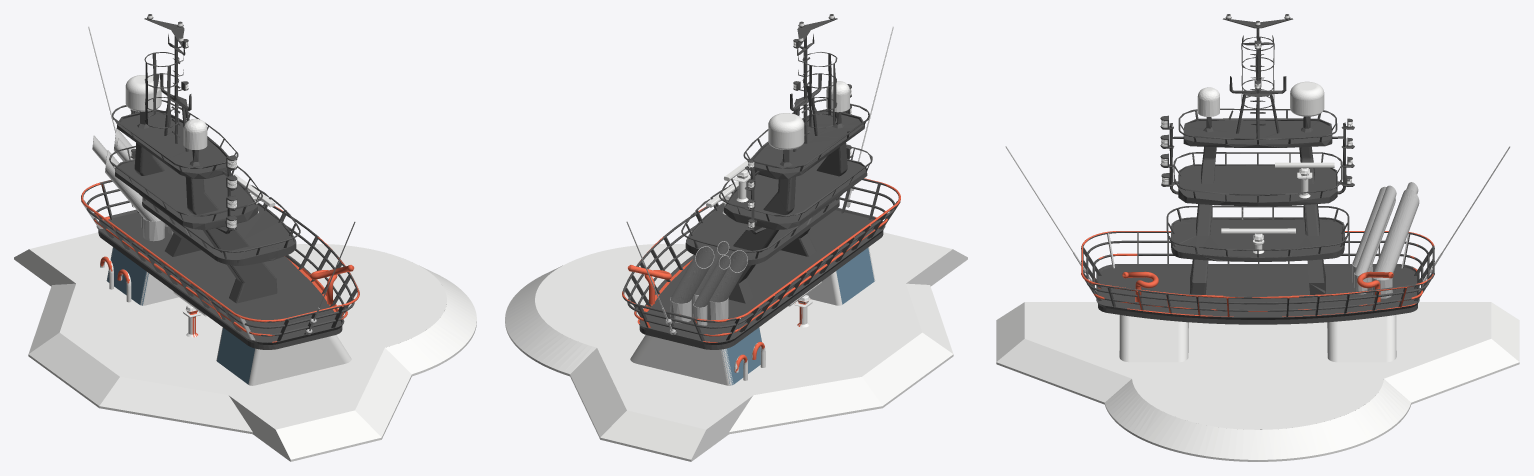
The model's file is wheelhouse_roof_updated.dae.
3 views of the same model, side by side, from view 1: azimuth 30°, elevation 25°; view 2: azimuth 150°, elevation 25°; view 3: azimuth 270°, elevation 25° (orthographic). The views are drawn at different scales.
Visible parts, largest first — view 1: node122.005, node123.005, node63.005, node121.005, node72.005, node66.005, node67.005, node62.005, node124.005, node108.005, node69.005, node111.005 (+1 smaller); view 2: node122.005, node123.005, node63.005, node121.005, node72.005, node62.005, node67.005, node66.005, node124.005, node108.005, node61.005, node69.005 (+3 smaller); view 3: node122.005, node123.005, node63.005, node121.005, node72.005, node67.005, node62.005, node66.005, node61.005, node124.005, node58.005, node108.005 (+3 smaller).
Part boxes in pixels (x1,y1,x2,y2): node122.005: (31,232,446,428); node123.005: (14,243,476,459); node63.005: (81,180,359,349); node121.005: (109,18,300,303); node72.005: (134,143,300,303); node66.005: (216,327,351,385); node67.005: (116,156,255,223); node62.005: (106,247,178,305); node124.005: (14,257,476,461); node108.005: (125,75,161,111); node69.005: (105,150,160,221); node111.005: (183,118,207,149); node122.005: (535,232,950,428); node123.005: (505,243,967,459); node63.005: (622,178,900,349); node121.005: (682,18,872,301); node72.005: (681,143,847,303); node62.005: (630,327,761,385); node67.005: (726,156,865,222); node66.005: (806,247,875,305); node124.005: (505,257,967,461); node108.005: (768,113,804,149); node61.005: (670,246,714,303); node69.005: (709,250,747,302); node122.005: (1024,303,1491,429); node123.005: (996,302,1519,459); node63.005: (1081,231,1434,324); node121.005: (1161,18,1354,294); node72.005: (1166,146,1349,294); node67.005: (1180,166,1335,202); node62.005: (1327,315,1396,362); node66.005: (1119,315,1188,362); node61.005: (1373,189,1419,280); node124.005: (996,362,1519,461); node58.005: (1354,185,1396,275); node108.005: (1290,81,1324,116).
Bounding box in the file's own units: 0.2865 × 0.3509 × 0.2319.
